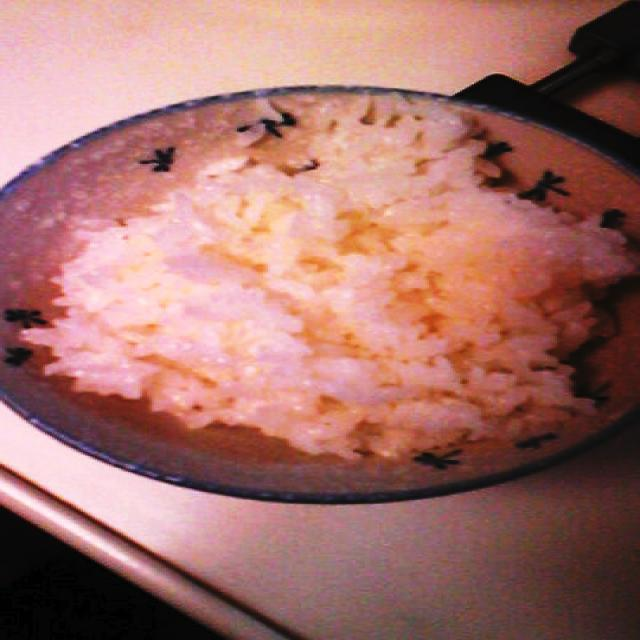rice: (14, 88, 640, 455)
